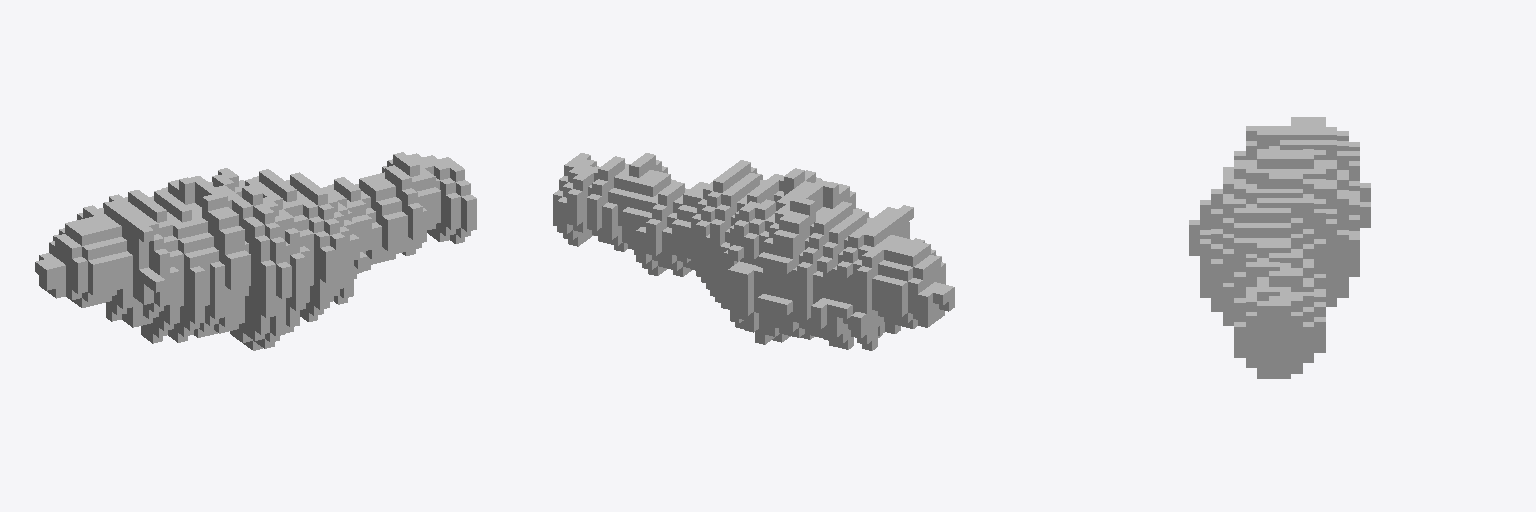
File: Player Flame.obj
3 views of the same model, side by side, from view 1: azimuth 30°, elevation 25°; view 2: azimuth 150°, elevation 25°; view 3: azimuth 270°, elevation 25° (orthographic).
Visible parts, largest first — view 1: Ship; view 2: Ship; view 3: Ship.
Part boxes in pixels (left/top/right/bottom): Ship: left=35, top=152, right=476, bottom=350; Ship: left=553, top=153, right=954, bottom=350; Ship: left=1189, top=117, right=1370, bottom=378.
Size of the model in its own units: 40 by 15 by 16.